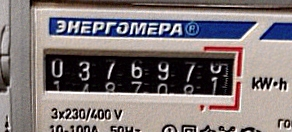0: (51, 56, 65, 78)
1: (208, 75, 221, 95)
3: (78, 59, 93, 81)
6: (130, 56, 145, 79)
7: (103, 57, 118, 80), (184, 59, 198, 83)
9: (156, 58, 171, 81)
screen: (34, 39, 246, 114)
